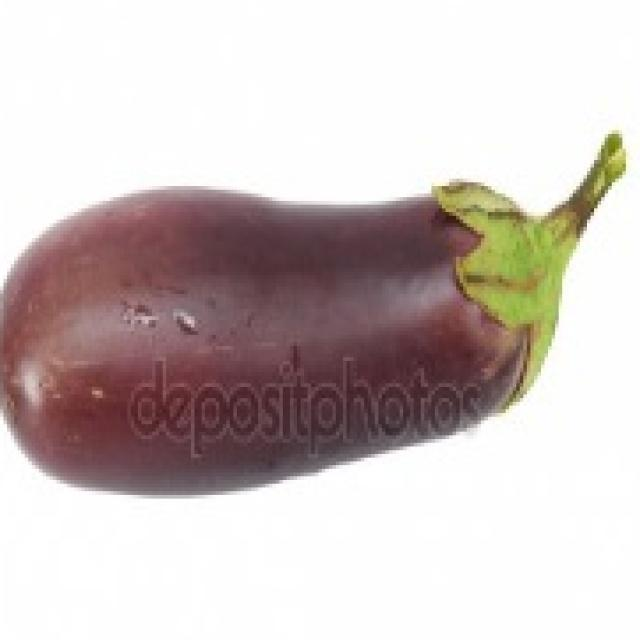eggplant: (0, 175, 552, 495)
